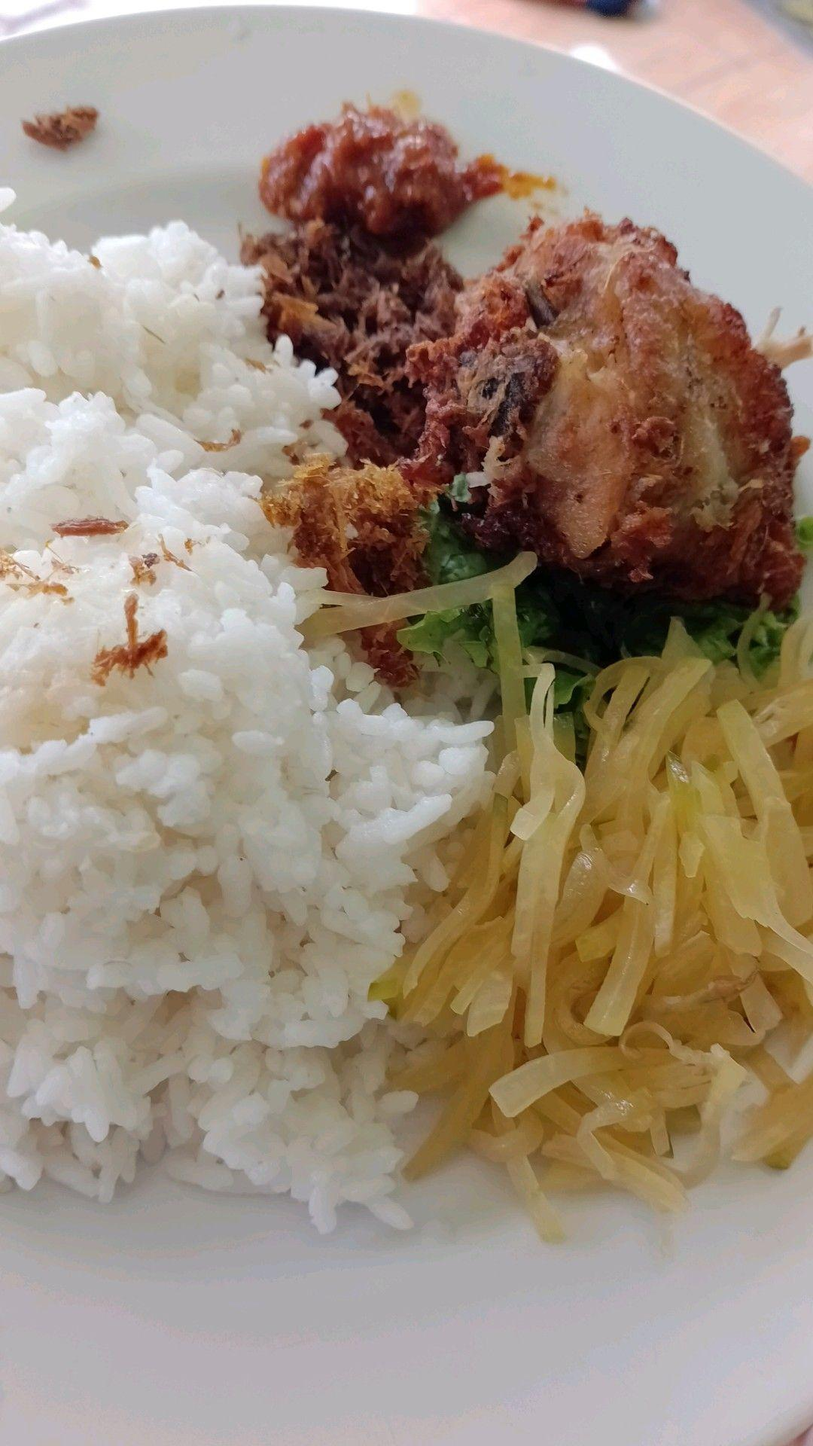buah_sayur_lainnya: (501, 743, 783, 1039)
daging: (354, 346, 778, 538)
makanan_berpati: (1, 301, 248, 1108)
